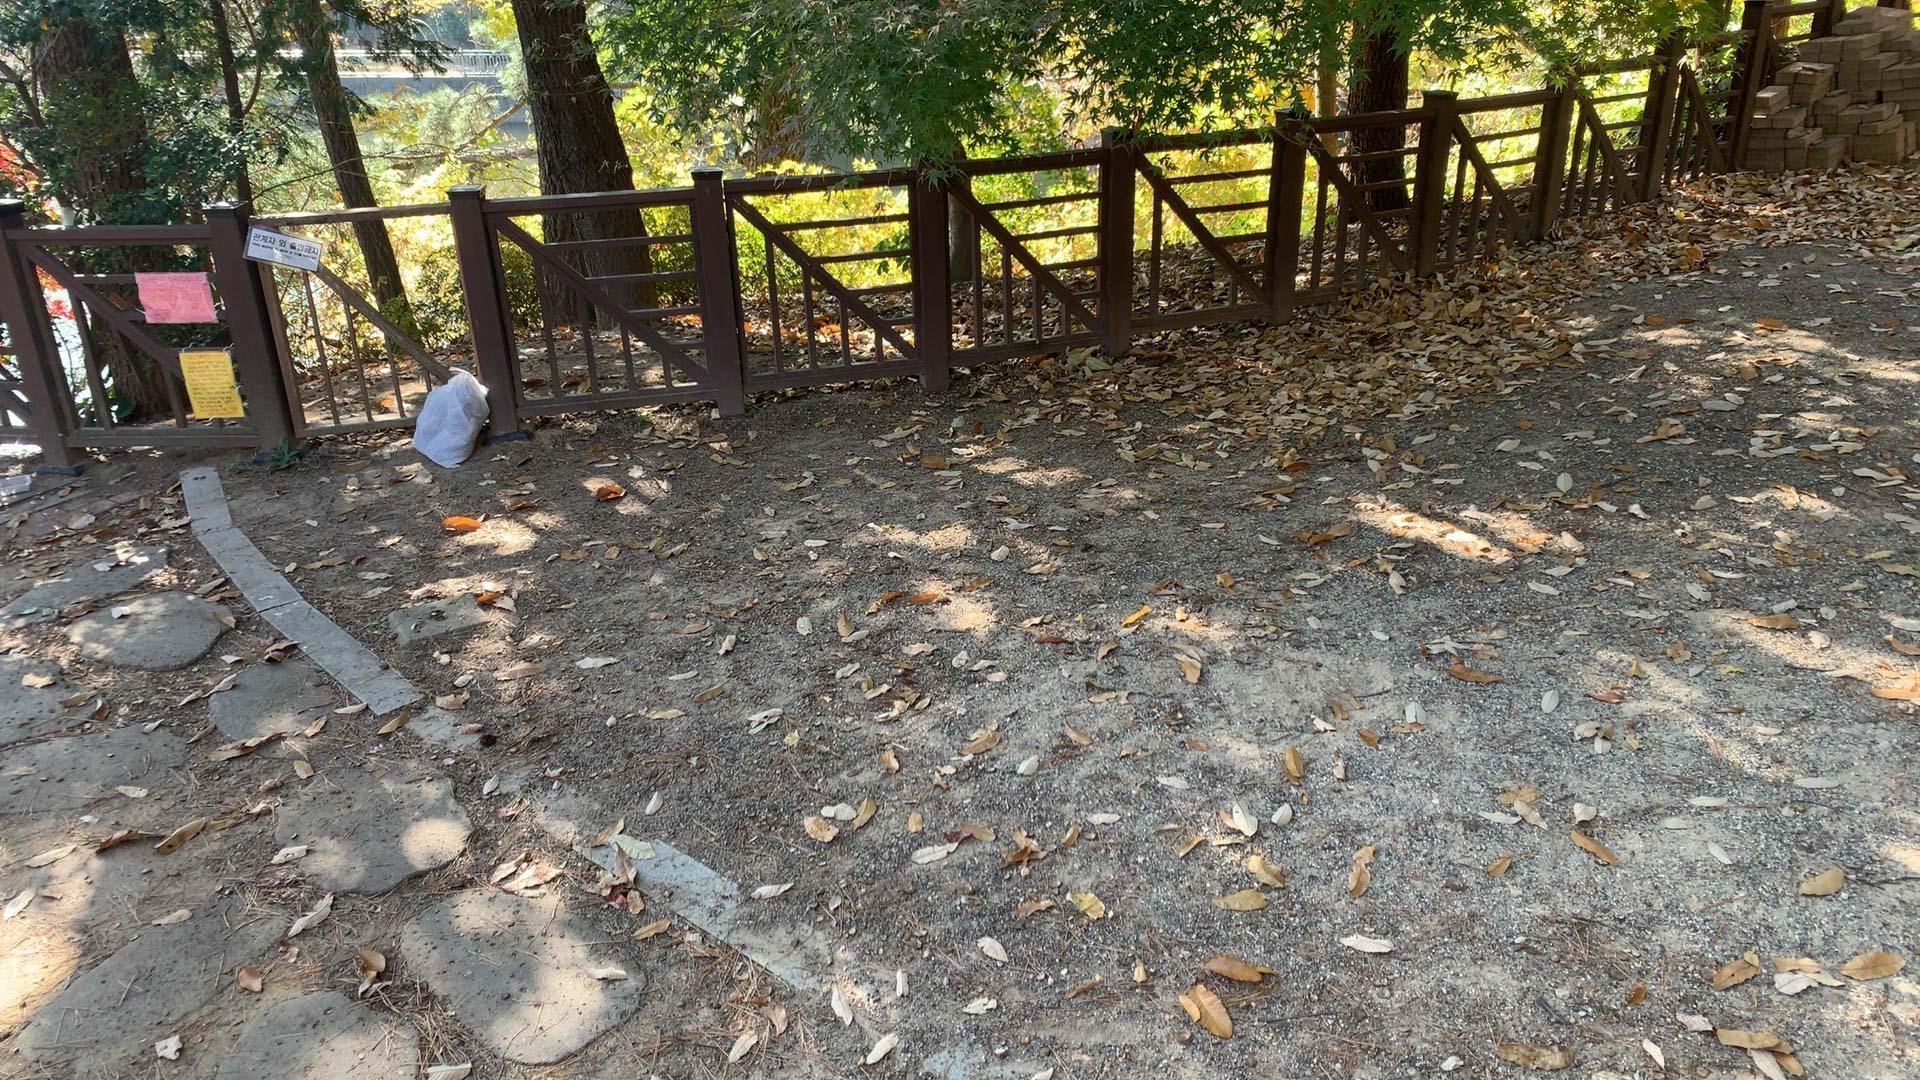white_bag: (404, 363, 491, 469)
